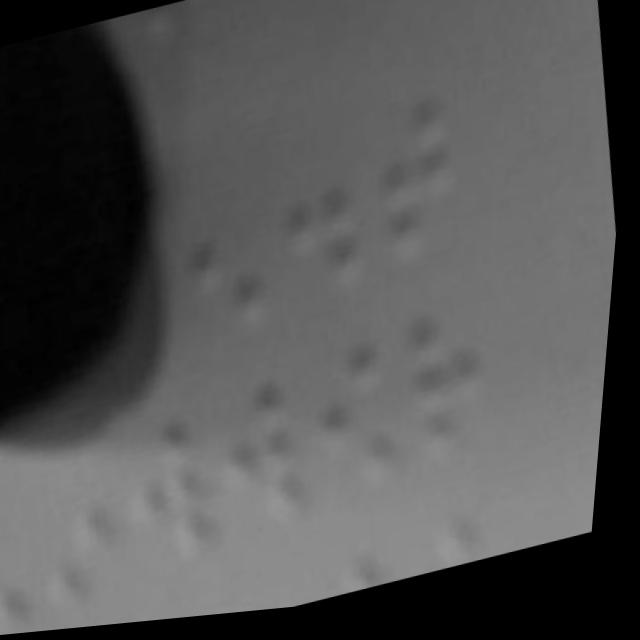braiile: (151, 160, 285, 365), (350, 86, 476, 296), (258, 113, 384, 320), (100, 401, 232, 597), (197, 373, 323, 568), (289, 342, 419, 530), (384, 292, 508, 487), (17, 446, 136, 632), (0, 464, 48, 638), (337, 540, 437, 605)
